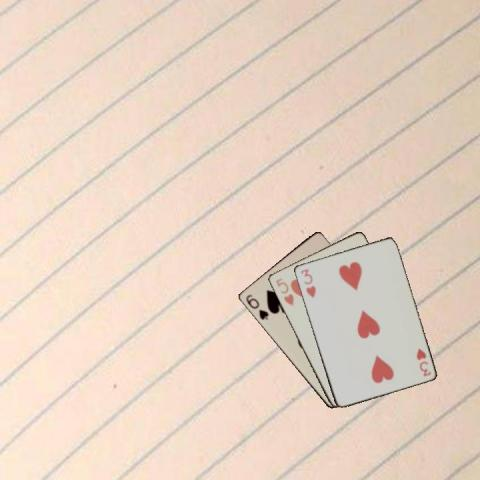3h: (297, 266, 317, 299), (413, 346, 432, 378)
5h: (272, 275, 294, 307)
6s: (243, 292, 270, 322)
